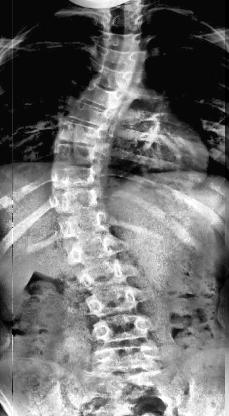Vertebrae: (89, 342, 159, 374), (84, 282, 142, 320), (50, 206, 112, 240), (92, 314, 152, 346), (91, 45, 154, 75), (63, 232, 121, 264), (75, 258, 129, 292), (80, 79, 130, 115), (88, 60, 144, 92), (66, 99, 120, 131), (49, 182, 105, 212), (57, 120, 115, 148), (49, 164, 110, 190), (50, 143, 109, 169), (98, 29, 146, 53)
